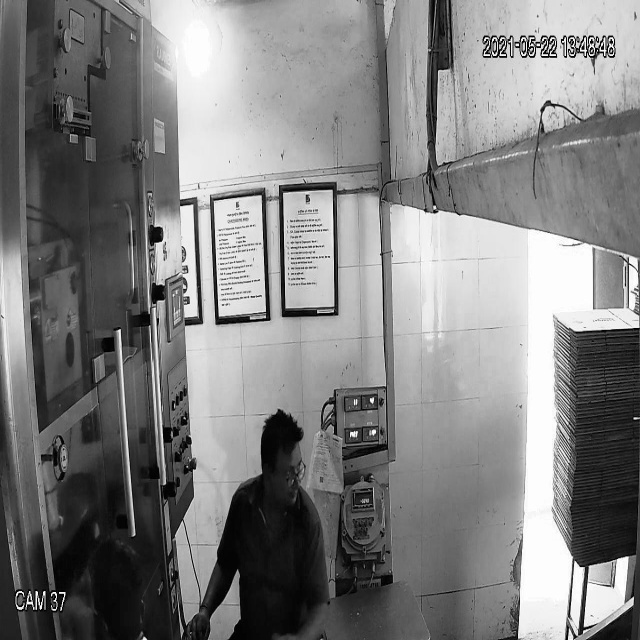Gafas: (257, 458, 308, 491)
